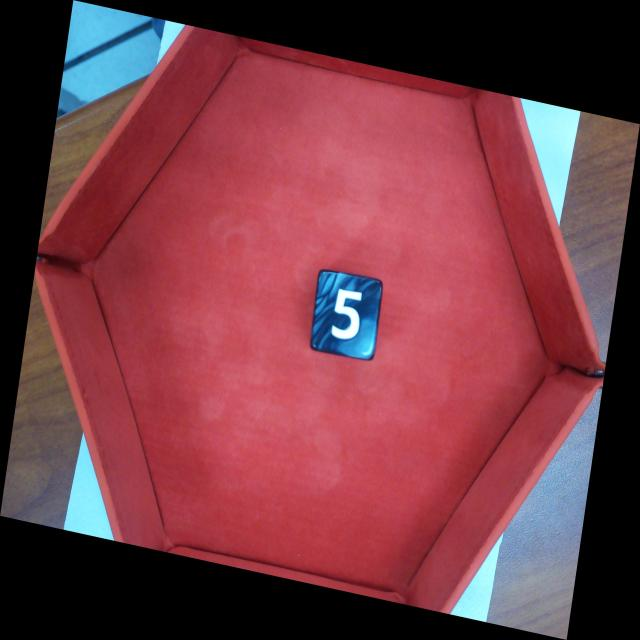dice: (313, 274, 382, 357)
